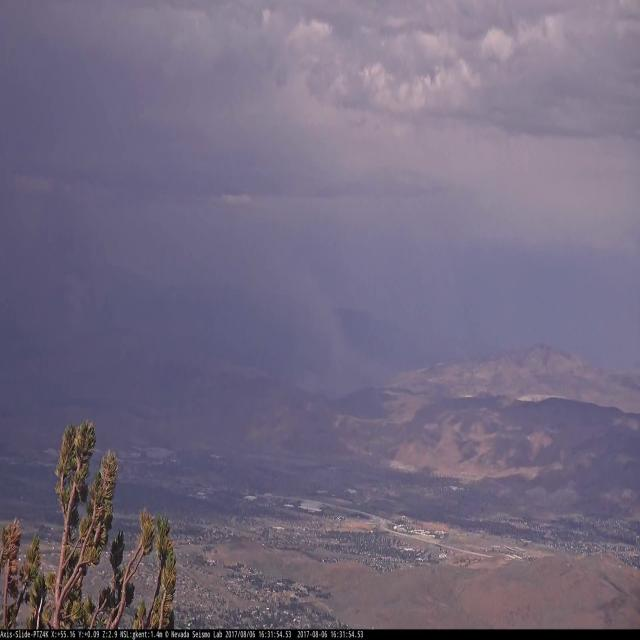smoke: (244, 256, 382, 402)
